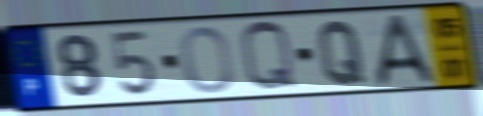5: (108, 29, 158, 98)
8: (55, 33, 105, 101)
A: (374, 11, 439, 89)
O: (177, 25, 236, 96)
Q: (237, 18, 301, 95), (315, 18, 368, 87)
